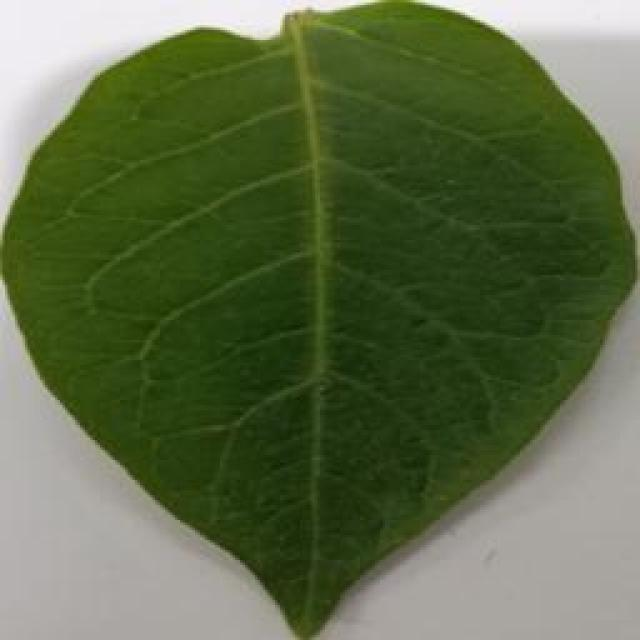Potato_Healthy: (1, 5, 628, 636)
